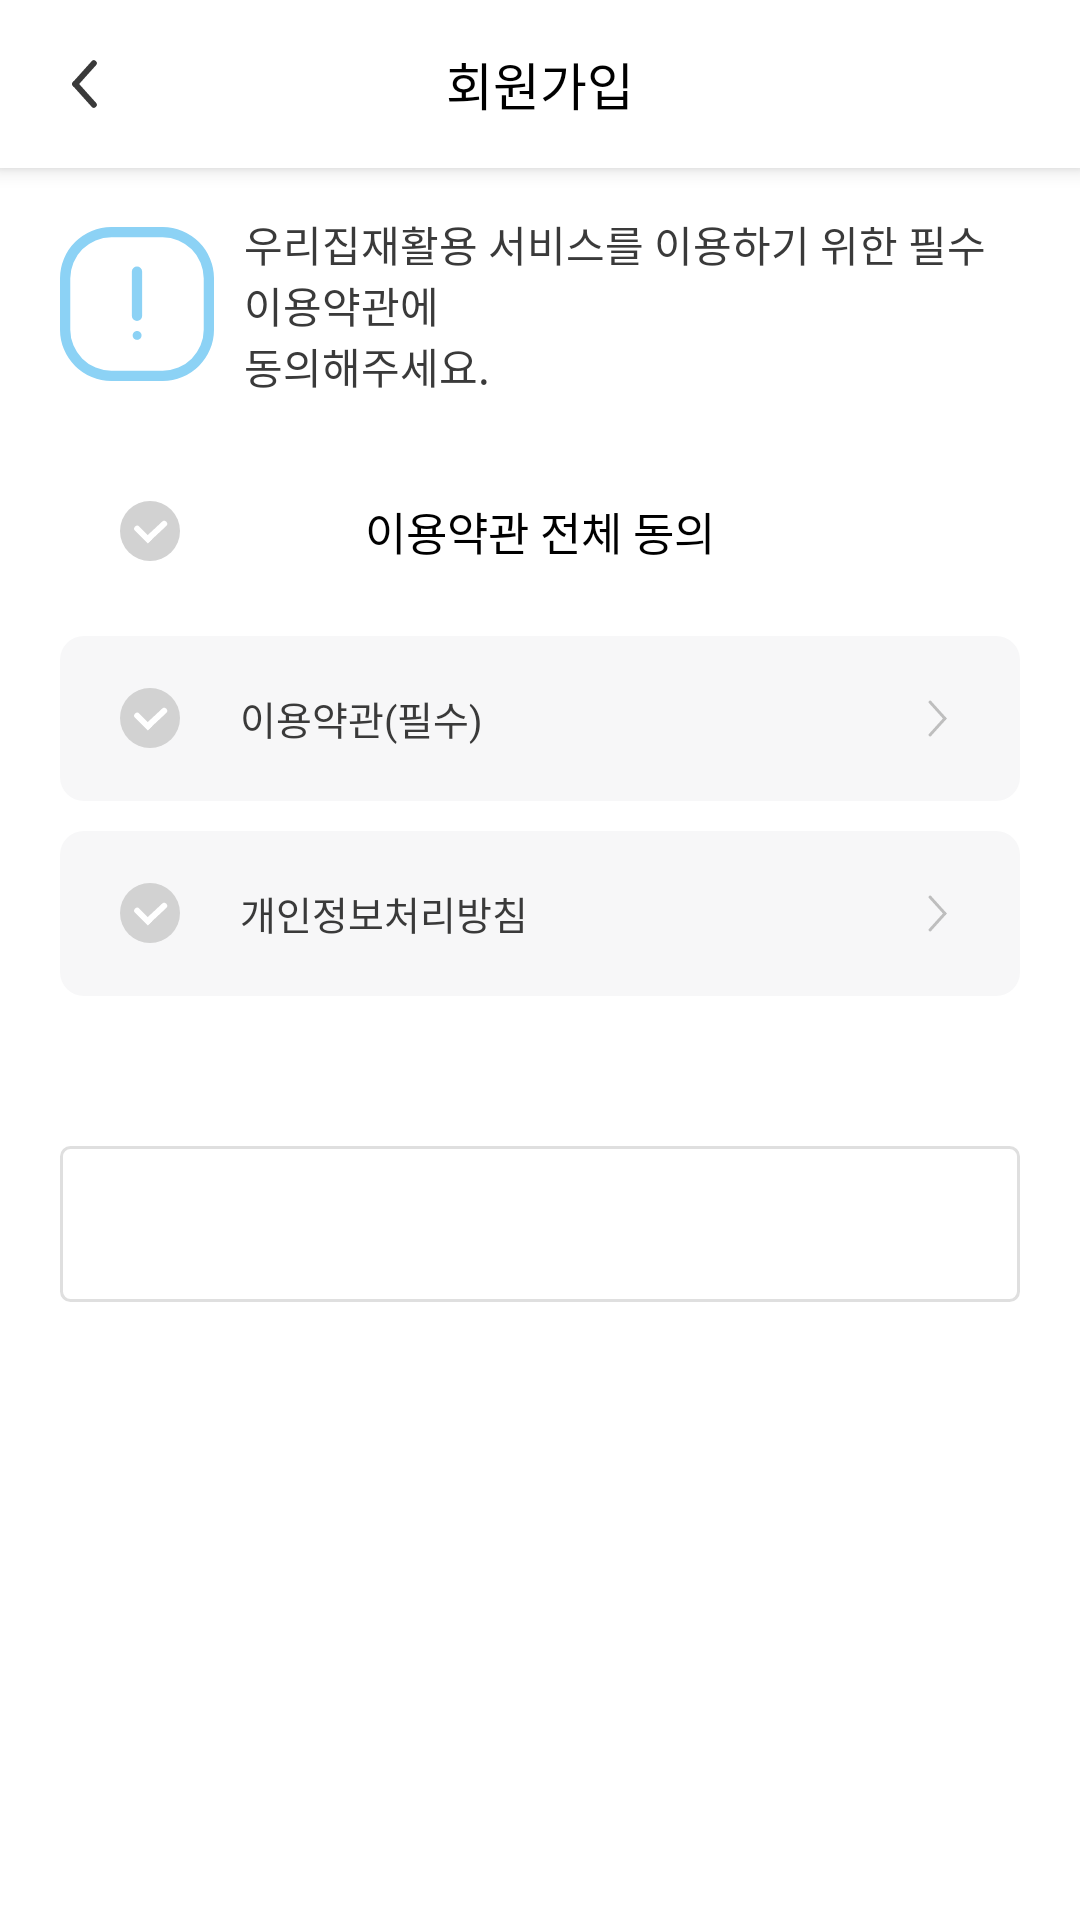

Named icons in this screenshot (1080px x 1920px) and their centers, [x,y]:
detail: [938,718], [938,913]
